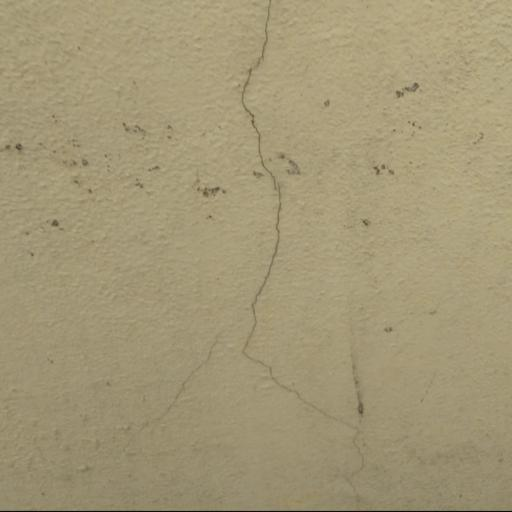minor_crack: (233, 0, 389, 512), (98, 309, 234, 453)
